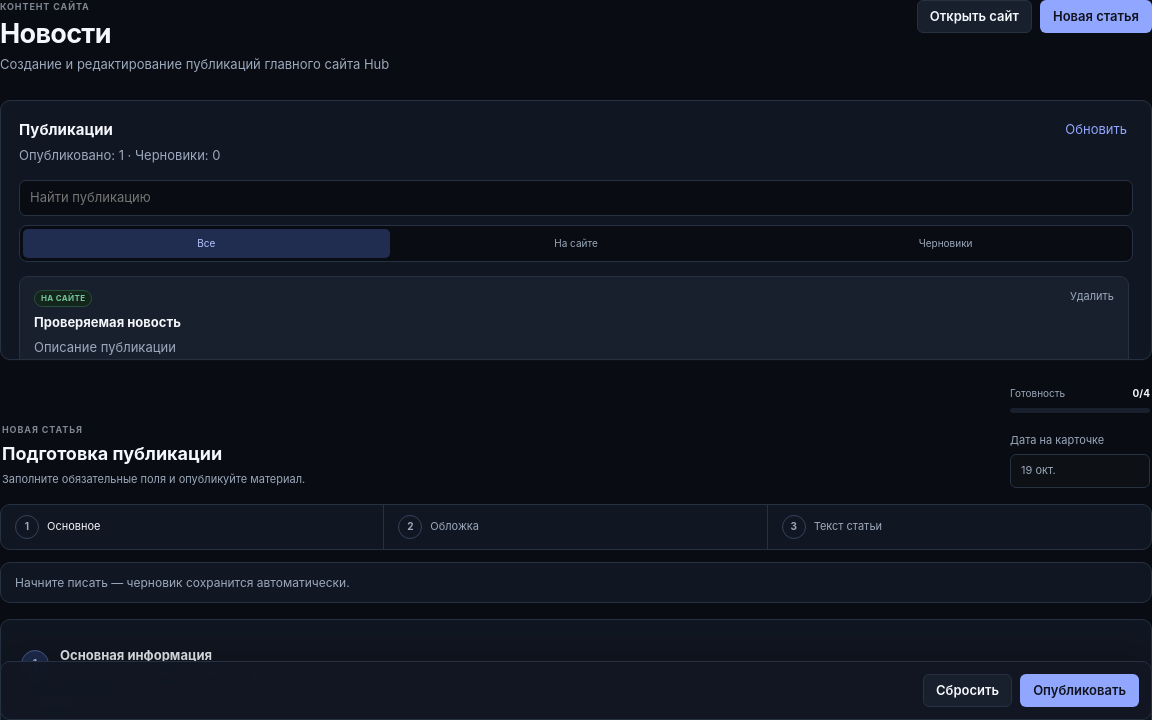
Scenario: site news publishing and deletion › cancels without deleting and restarts the countdown on reopening
This screenshot has width=1152, height=720.
Click the button "Удалить" at (1092, 297), box [1063,284,1121,310]
Wait 5000 ms
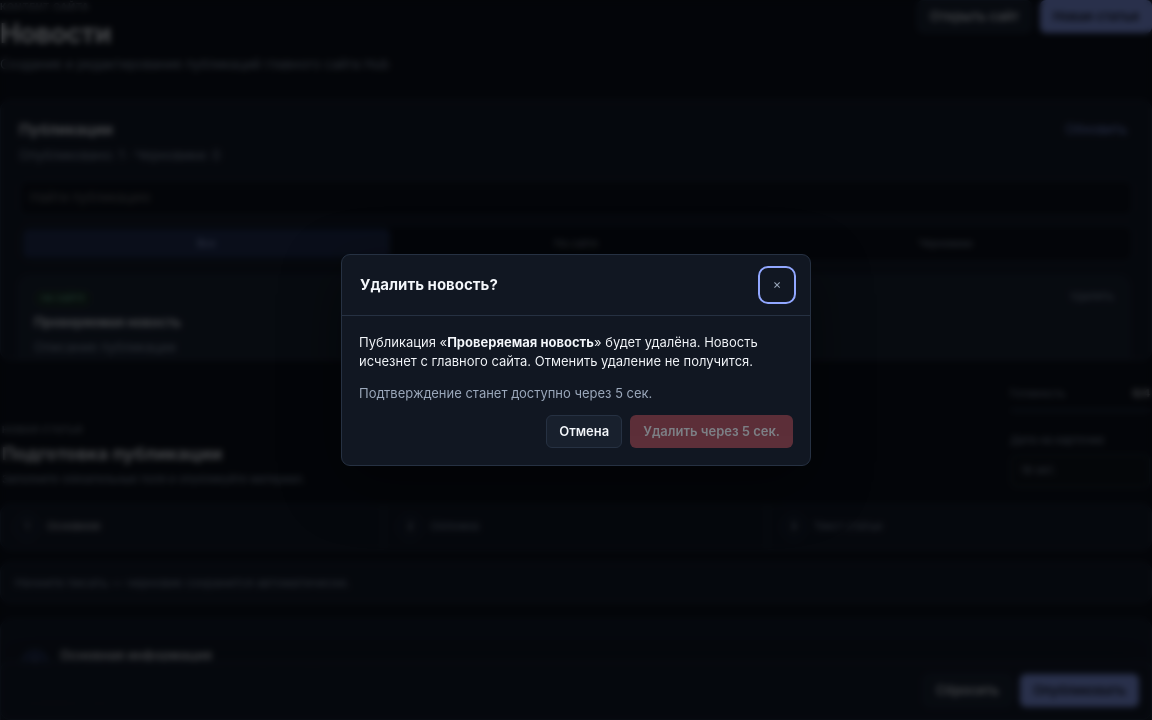
Click the button "Отмена" at (584, 432), box [546,415,622,448]
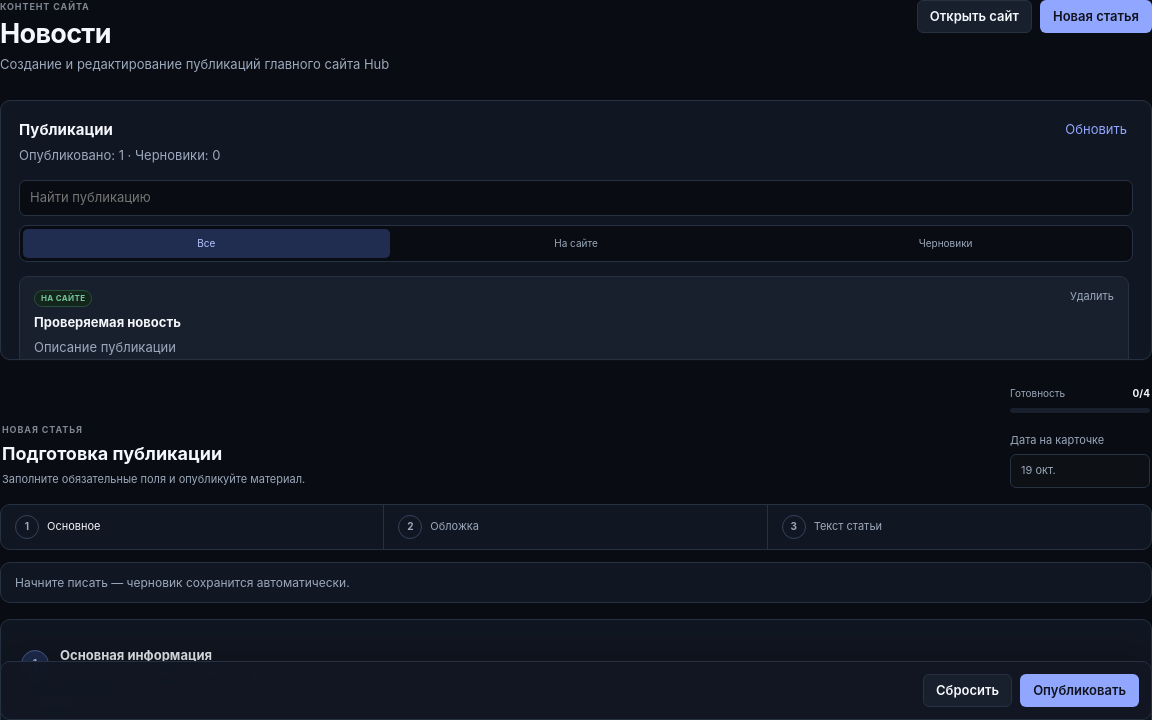
Click the button "Удалить" at (1092, 297), box [1063,284,1121,310]
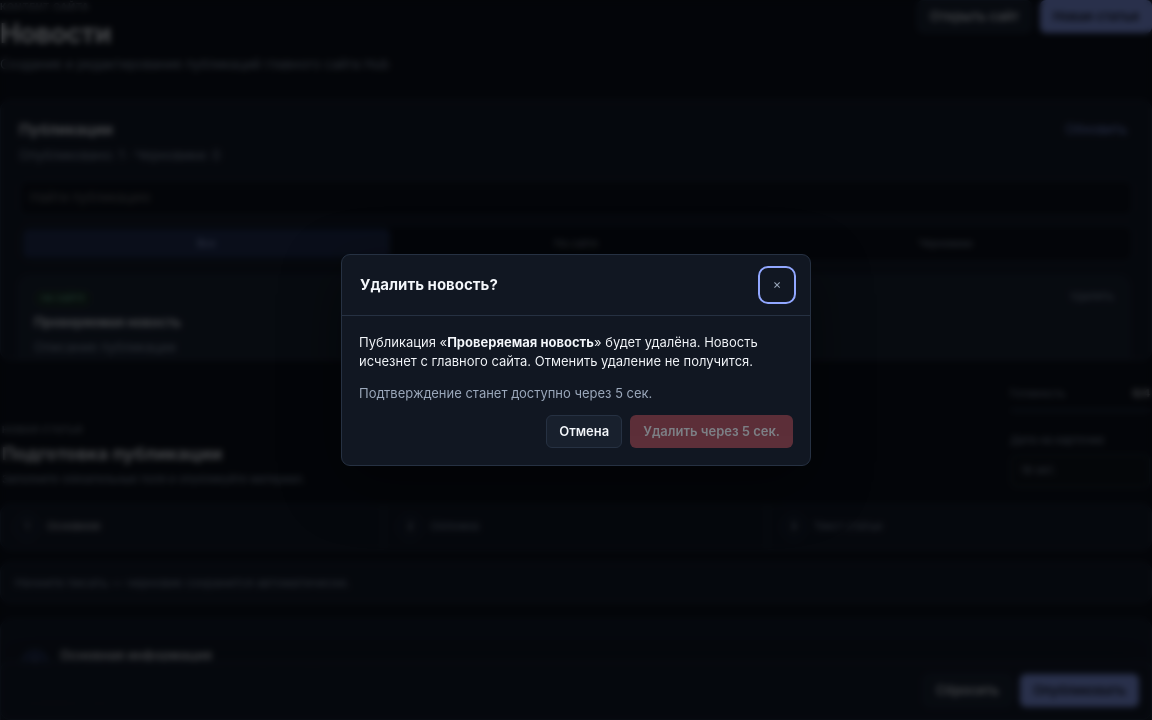
Now the button "Удалить через 5 сек." is disabled, box [630,415,793,448]
